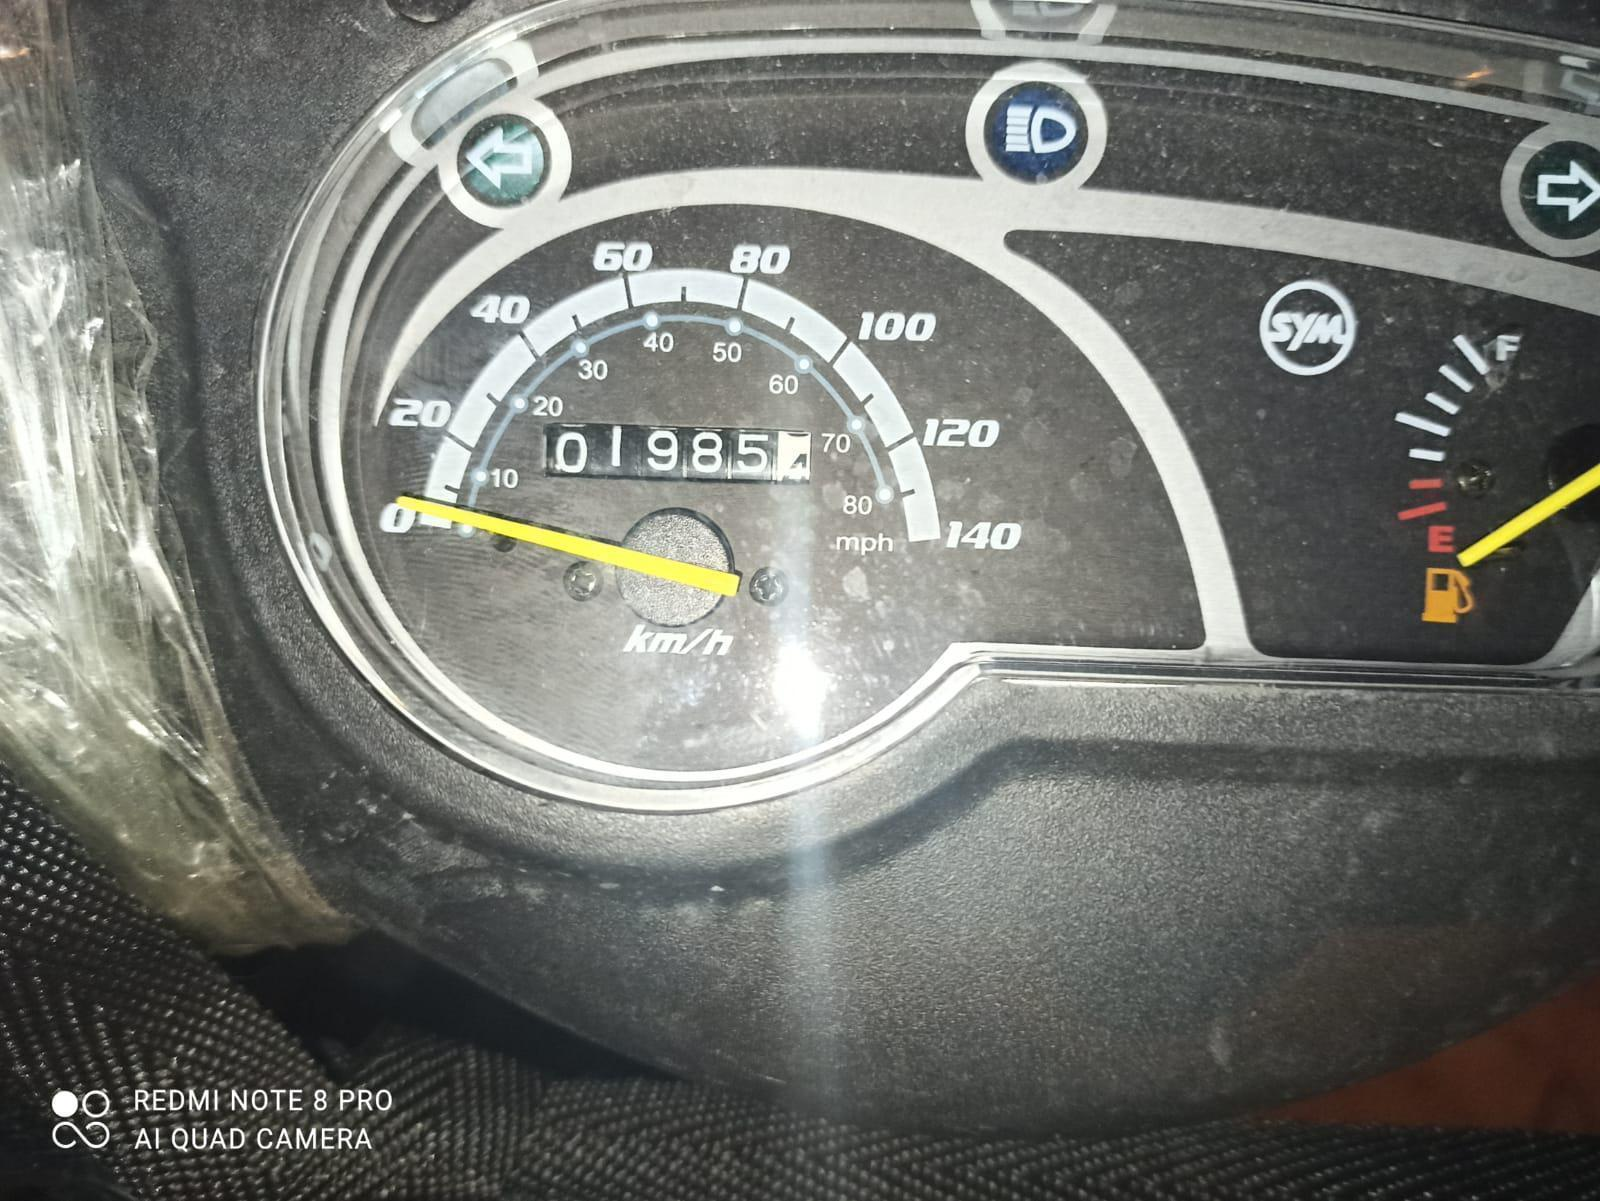0: (551, 429, 591, 473)
1: (606, 423, 628, 471)
4: (781, 450, 813, 484)
5: (736, 430, 772, 476)
8: (690, 429, 724, 474)
9: (644, 428, 680, 472)
odometer: (536, 416, 819, 489)
